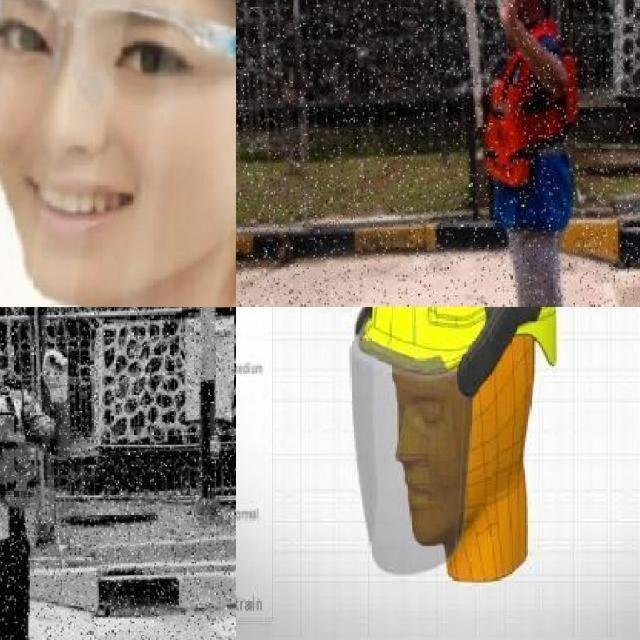apron: (37, 346, 74, 400)
